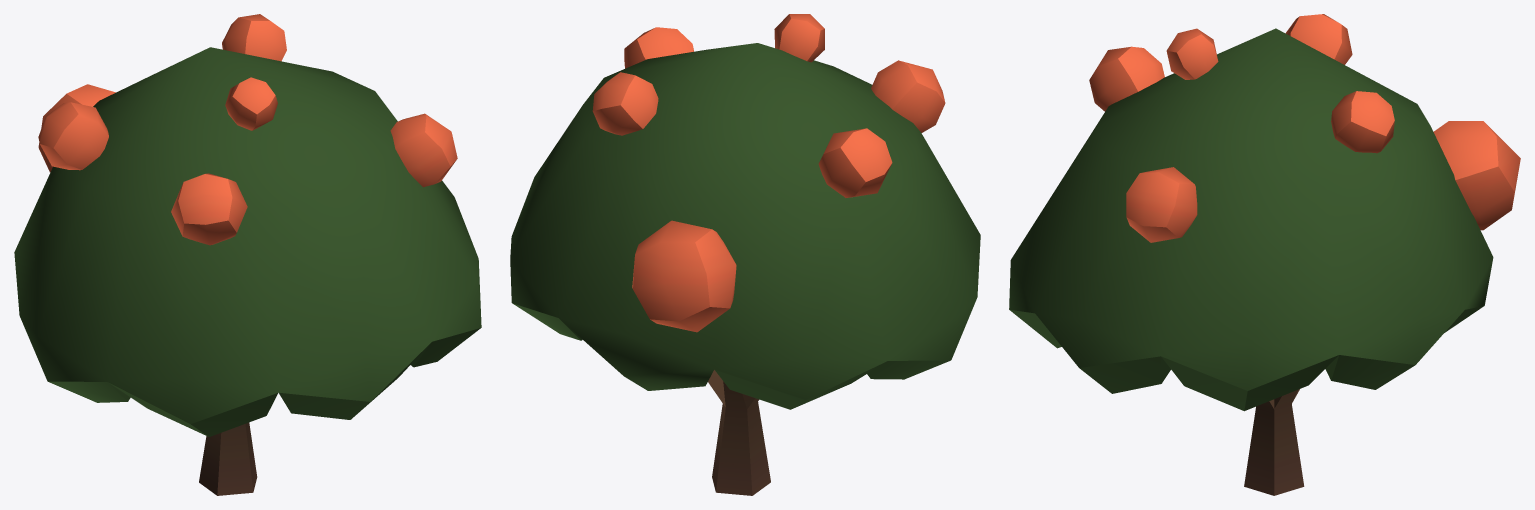
3 renders of one model, left to right at view 1: azimuth 30°, elevation 25°; view 2: azimuth 150°, elevation 25°; view 3: azimuth 270°, elevation 25°, orthographic.
Visible parts, largest first — view 1: mff_plant_berry_bush; view 2: mff_plant_berry_bush; view 3: mff_plant_berry_bush.
Boxes of the visible parts, <box> form: mff_plant_berry_bush: <box>14,14,481,495</box>; mff_plant_berry_bush: <box>510,14,980,495</box>; mff_plant_berry_bush: <box>1009,14,1520,495</box>.
Size of the model in its own units: 1.32 by 1.33 by 1.39.
1 material, 1 textured.
